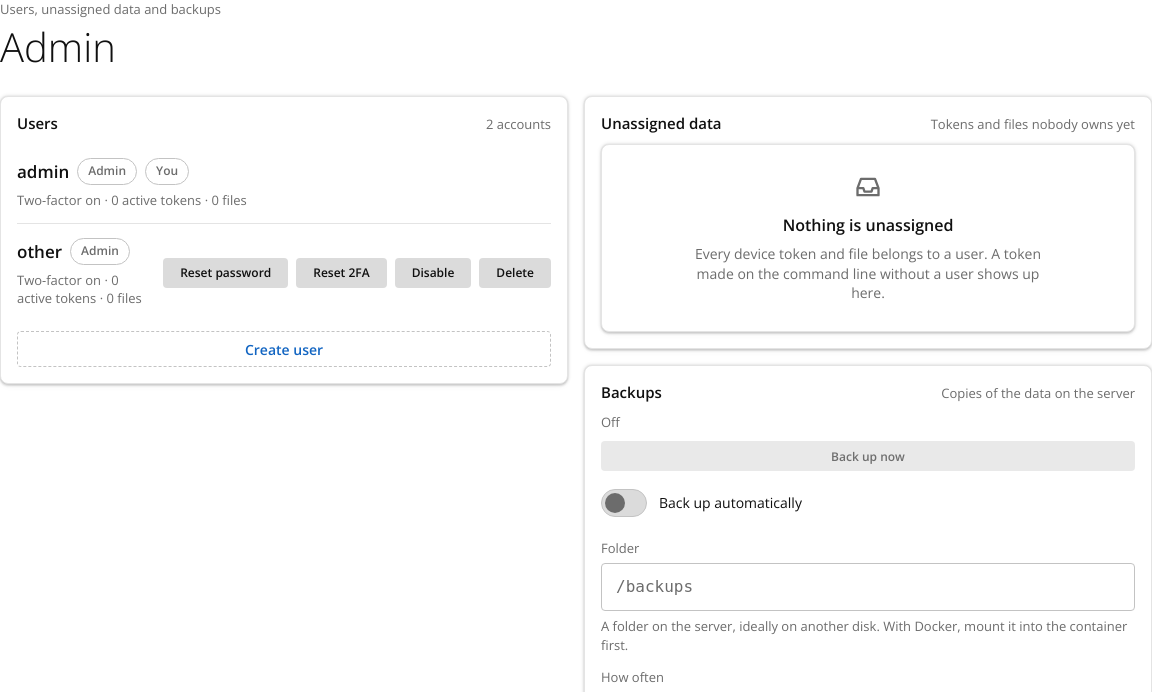
it: Admin: users › shows the 409 of the last active admin
Click the button with aria-label "Disable other": (433, 273) [395, 258, 471, 288]
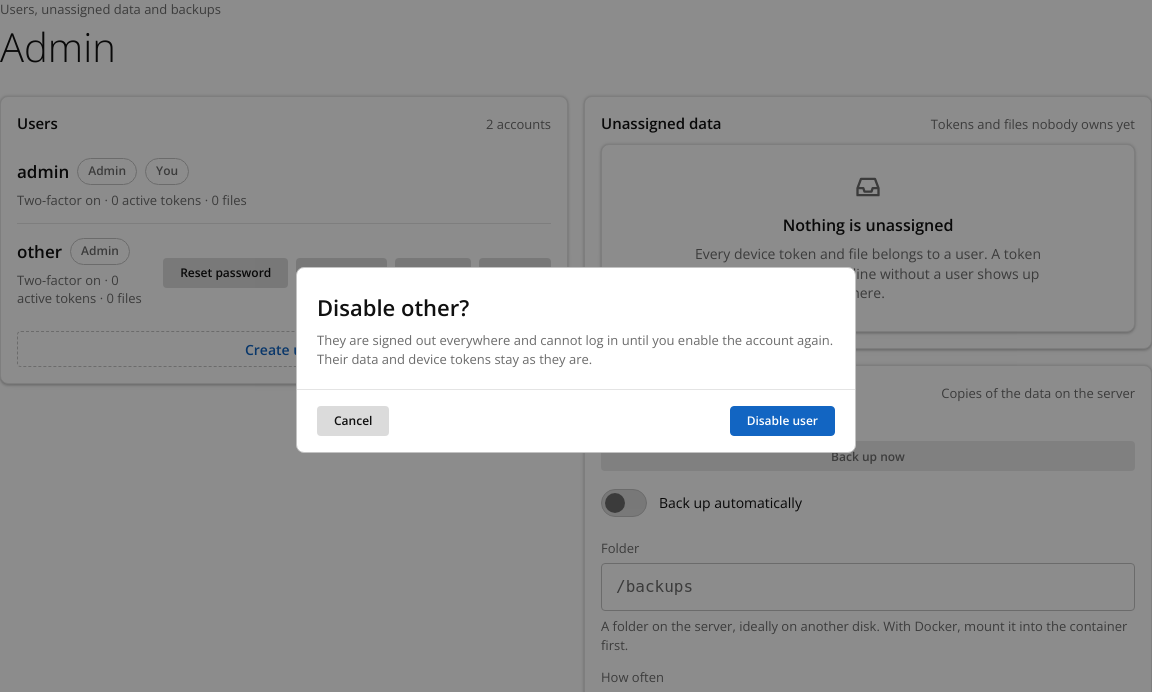
Click the button "Disable user": (782, 421) [730, 406, 835, 436]
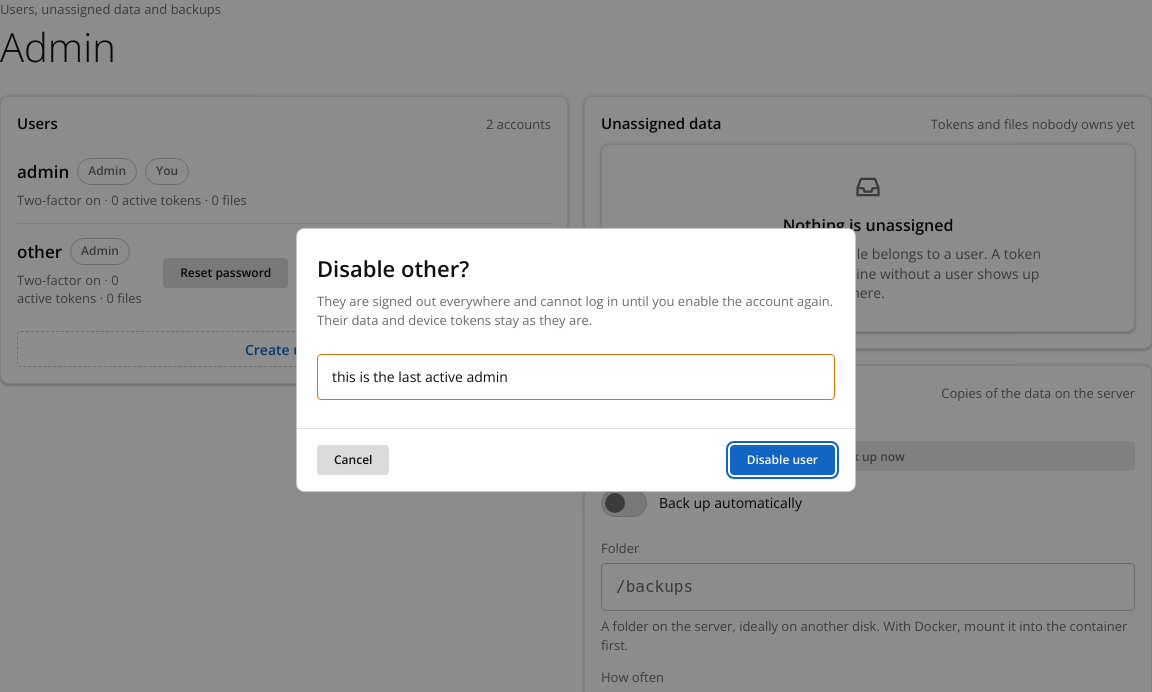
expect the message shows "last active admin": met, box [332, 367, 508, 386]
